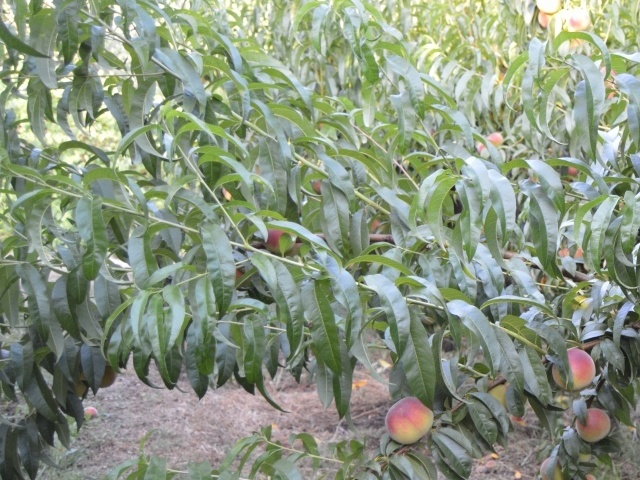peach: (381, 393, 436, 449), (546, 343, 598, 395), (571, 404, 613, 446), (264, 223, 299, 257), (563, 8, 594, 37), (92, 361, 119, 392), (533, 6, 557, 32), (484, 129, 510, 153), (535, 1, 563, 15)
